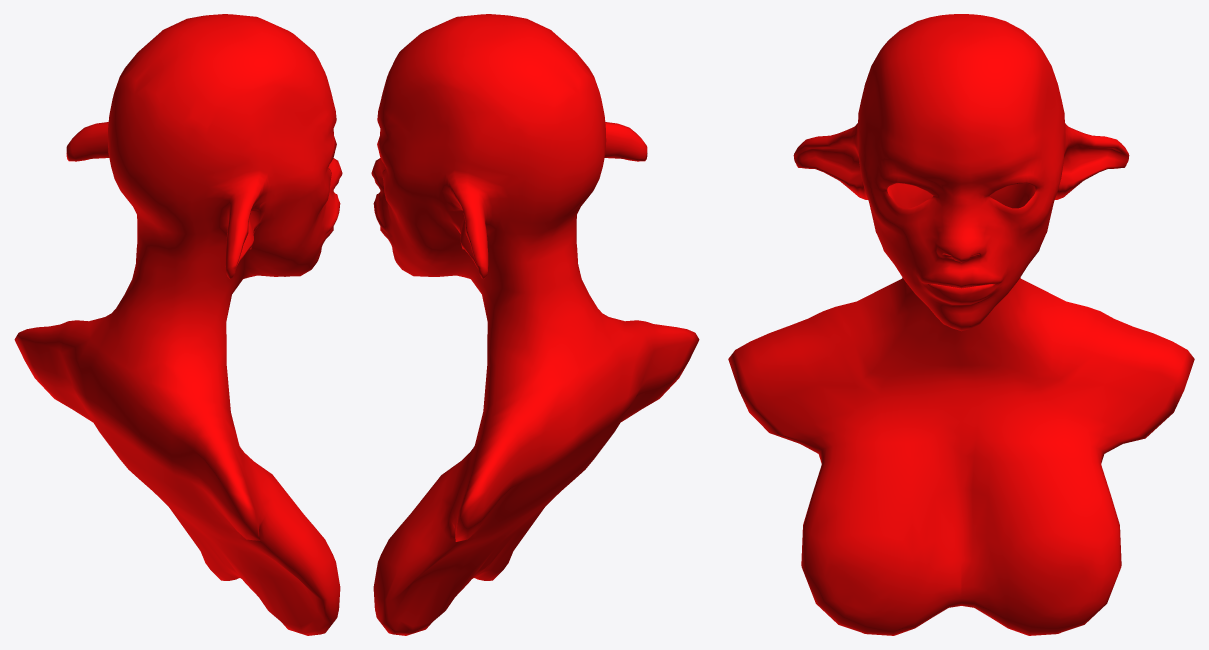
The picture shows the model from 3 angles, left to right: view 1: azimuth 30°, elevation 25°; view 2: azimuth 150°, elevation 25°; view 3: azimuth 270°, elevation 25°; orthographic projection.
Parts seen in each view (by area): view 1: retopo_save; view 2: retopo_save; view 3: retopo_save.
Part boxes in pixels (box(x1,y1,x2,y2)): retopo_save: box(14, 14, 342, 635); retopo_save: box(371, 14, 699, 635); retopo_save: box(728, 14, 1194, 635).
Bounding box in the file's own units: 257 × 607 × 434.
